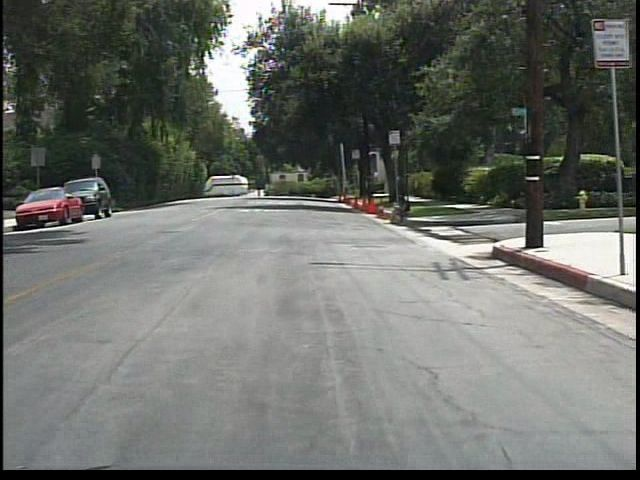person: (387, 190, 418, 228)
